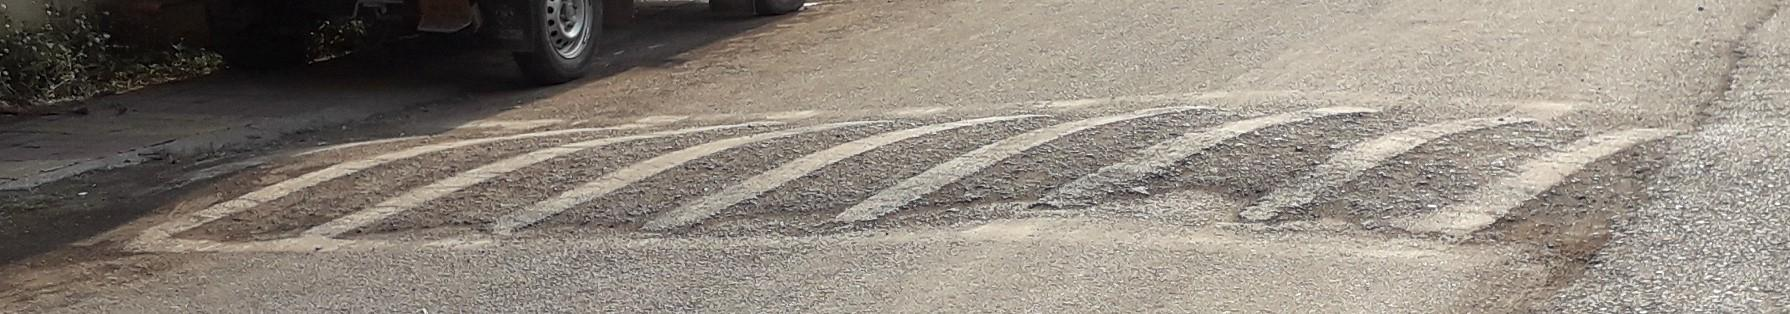speed-bump: (136, 96, 1675, 278)
